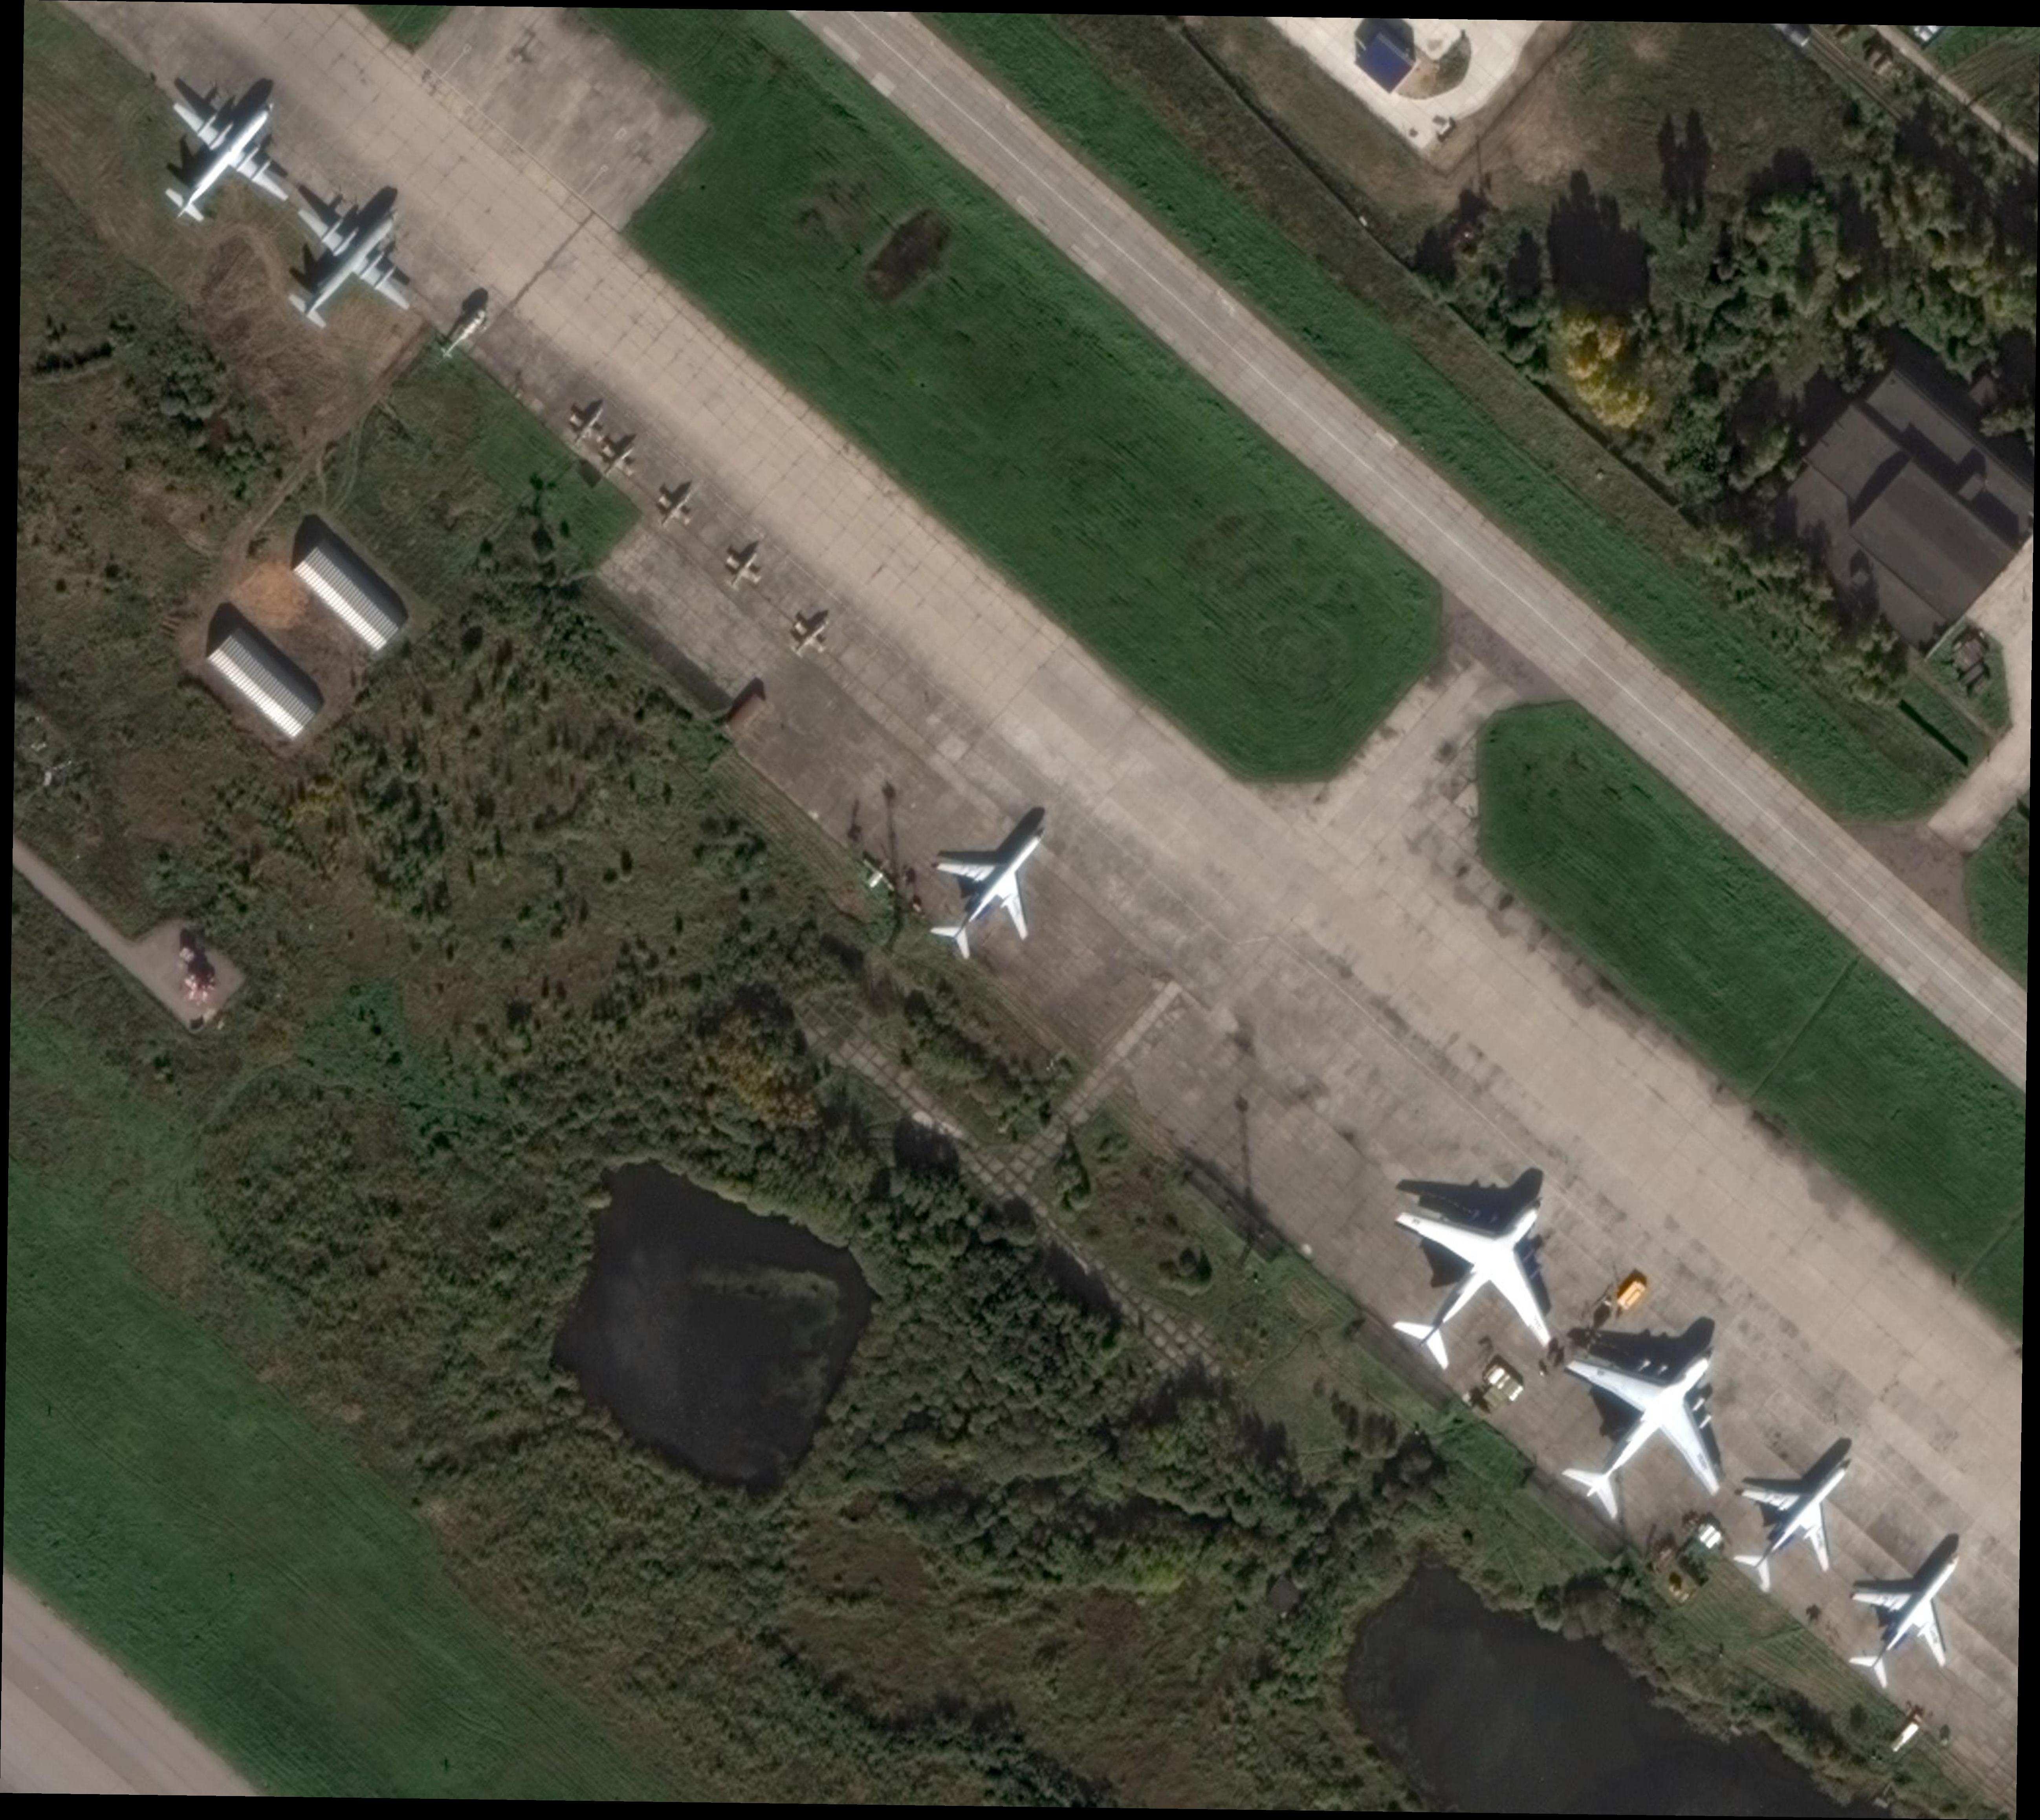plane: (1511, 1288, 1778, 1558), (1344, 1138, 1610, 1405), (121, 53, 323, 260), (255, 163, 450, 364), (1706, 1416, 1892, 1616), (1822, 1509, 2000, 1709), (901, 796, 1091, 980), (430, 297, 494, 365), (780, 604, 840, 669), (557, 394, 619, 455), (645, 480, 701, 541), (717, 538, 771, 597), (590, 432, 647, 488)
